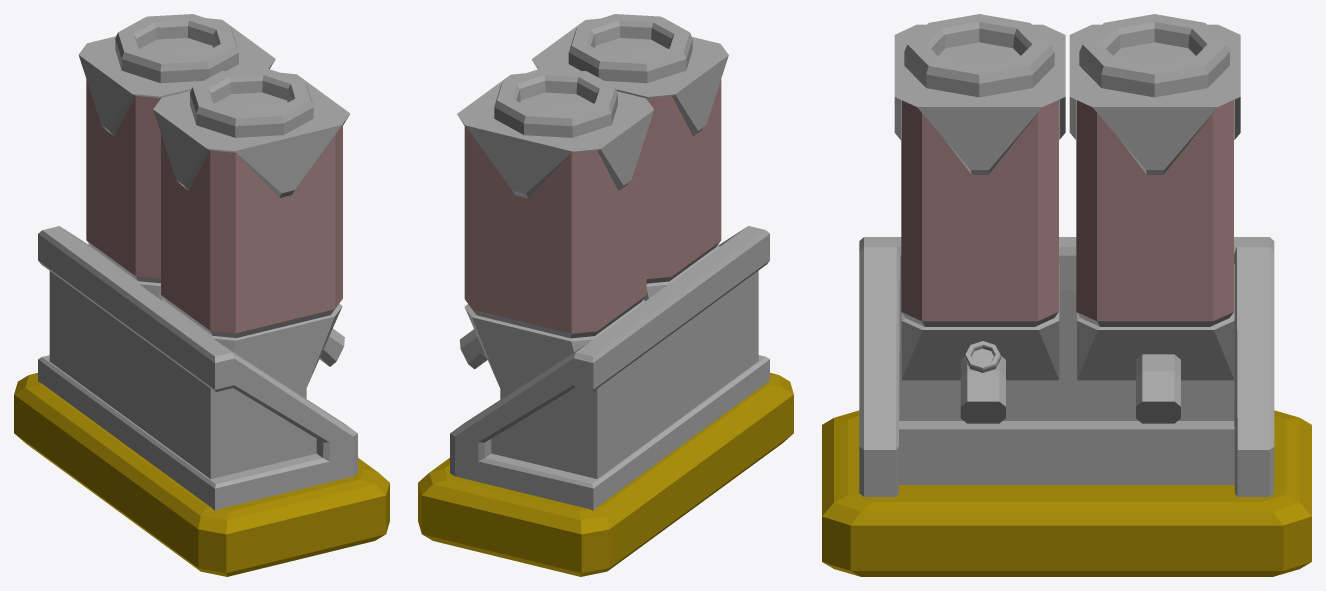
Rendered from Dispenser.fbx.
The picture shows the model from 3 angles, left to right: view 1: azimuth 30°, elevation 25°; view 2: azimuth 150°, elevation 25°; view 3: azimuth 270°, elevation 25°; orthographic projection. The views are drawn at different scales.
Parts seen in each view (by area): view 1: Fuel_Base; view 2: Fuel_Base; view 3: Fuel_Base.
Part boxes in pixels (x1,y1,x2,y2): Fuel_Base: [14, 14, 389, 576]; Fuel_Base: [418, 14, 793, 576]; Fuel_Base: [822, 14, 1311, 576].
Bounding box in the file's own units: 201 × 410 × 369.
